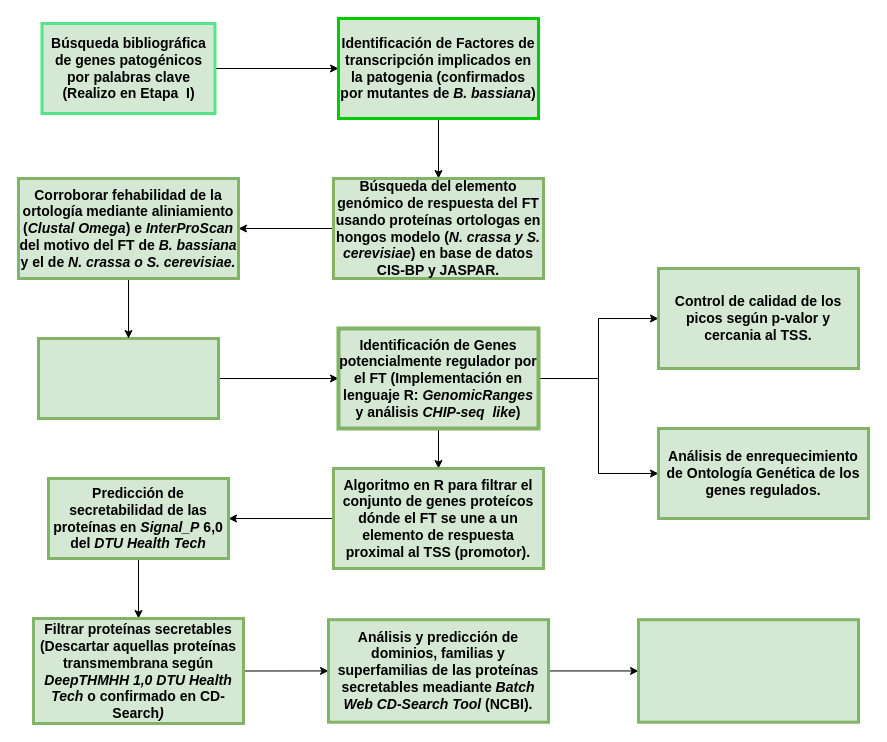
Some shapes in this 887 by 742 pixel diagram are drawn without their labels. The box of each missing label's shape, as (x1, y1, x2, y2) in pixels:
Análisis FIMO en servidor MEME Suite: (36, 336, 220, 420)
Predicción de peso molecular utilizando funciones del BioPython 1.85: (636, 618, 860, 723)
